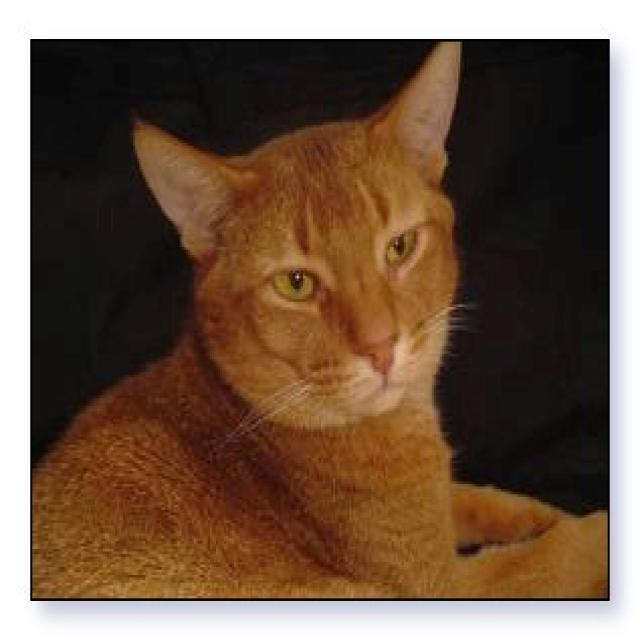Abyssinian: (130, 36, 459, 424)
